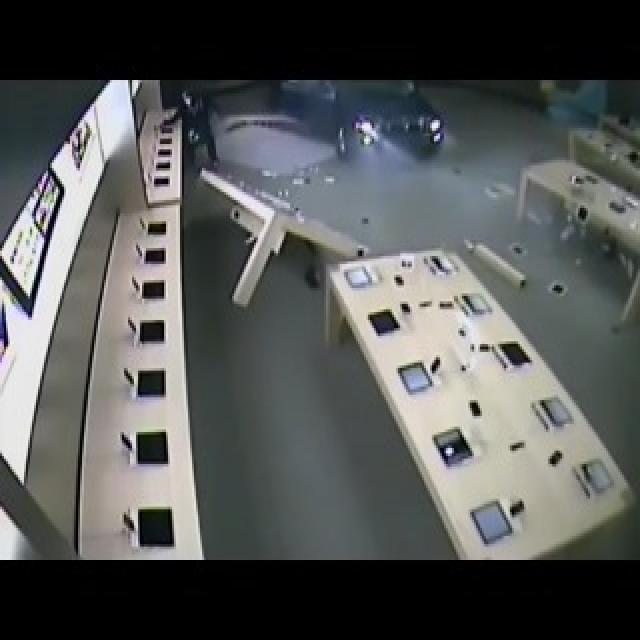burglary: (253, 82, 462, 177)
thief: (178, 90, 215, 159)
